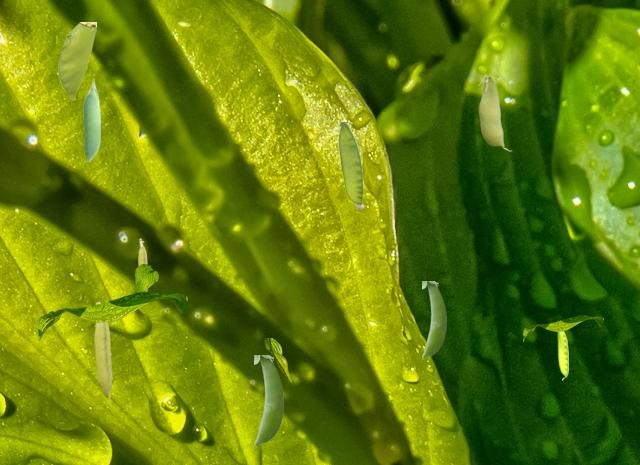pea: (58, 22, 95, 99), (254, 355, 282, 446), (478, 73, 511, 150), (338, 122, 363, 208), (422, 281, 445, 358), (94, 301, 111, 401), (83, 79, 99, 160), (557, 332, 567, 379), (138, 238, 147, 290)
